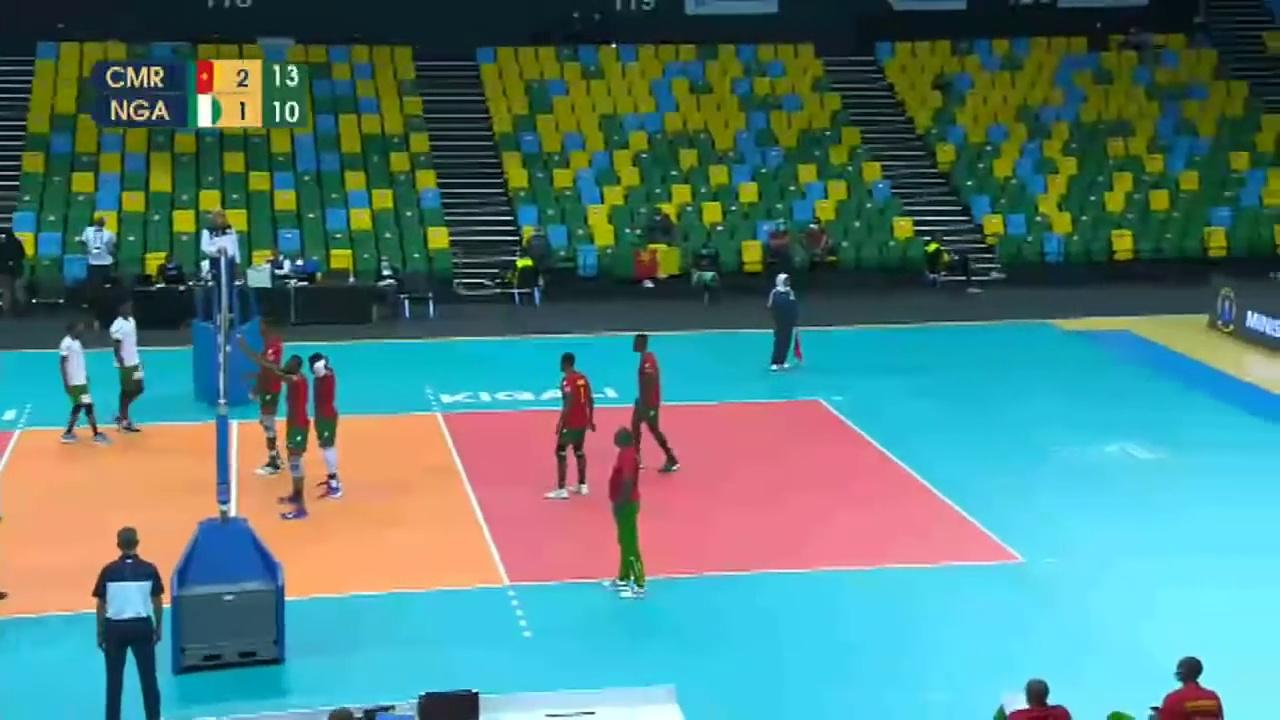player: (626, 336, 682, 470), (269, 352, 311, 522), (245, 321, 290, 473), (550, 355, 596, 497), (301, 351, 343, 500), (60, 323, 105, 441), (106, 305, 143, 432)
refree: (90, 521, 175, 720), (201, 203, 248, 315), (768, 275, 805, 370)
